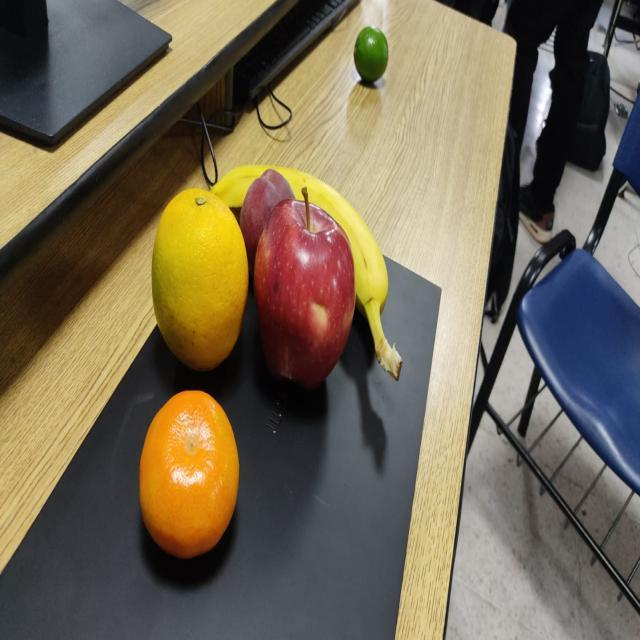Apel Merah: (248, 182, 358, 396)
Jeruk: (145, 182, 251, 378)
Jeruk Mandarin: (135, 384, 246, 568)
Persik: (240, 164, 300, 284)
Pisang: (204, 160, 406, 388)
